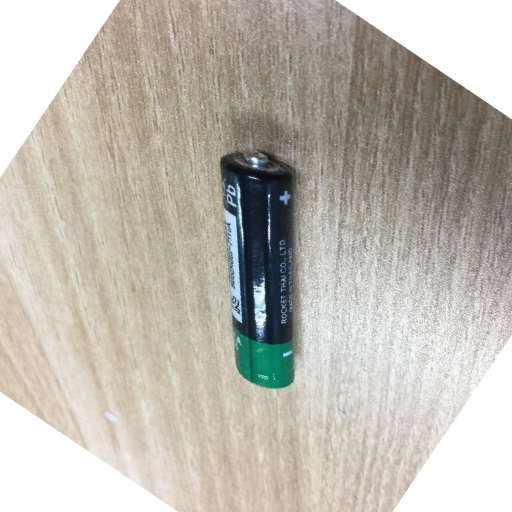Battery_0: (210, 137, 316, 395)
